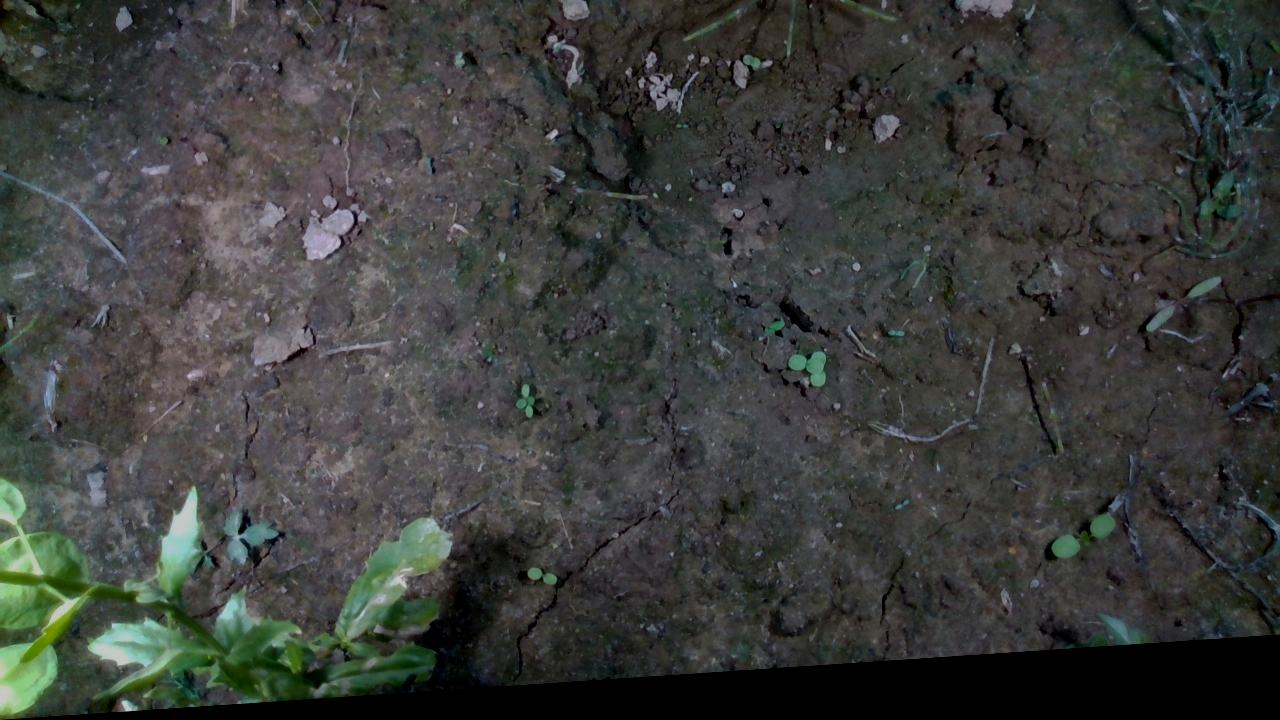weed: (1049, 527, 1117, 575), (507, 384, 549, 429), (523, 570, 559, 595)
